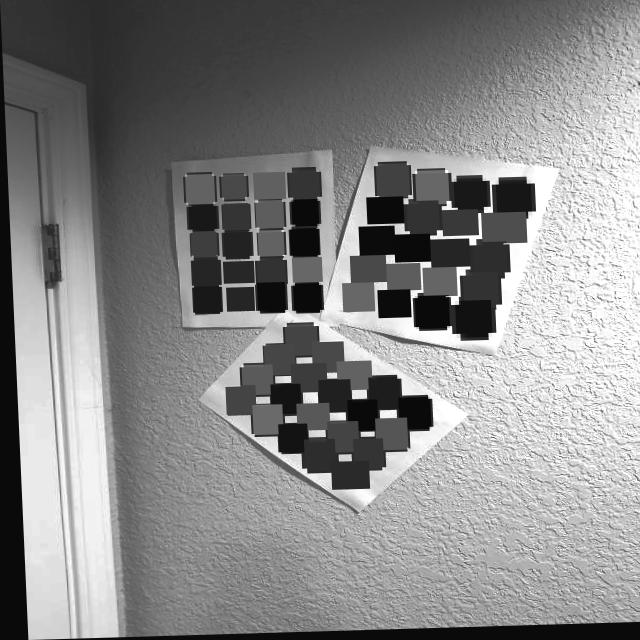qr_code: (479, 215, 525, 247), (452, 303, 489, 341), (494, 183, 530, 220), (460, 275, 496, 312), (413, 173, 448, 208), (470, 244, 505, 279), (412, 298, 447, 332), (428, 241, 468, 270), (374, 166, 408, 200), (404, 203, 438, 237), (326, 463, 365, 492), (452, 181, 486, 214), (315, 381, 348, 415), (371, 420, 405, 453), (356, 228, 393, 258), (287, 365, 324, 395), (308, 342, 341, 375), (394, 399, 427, 432), (333, 363, 369, 393), (392, 236, 429, 265), (364, 199, 402, 227), (282, 326, 315, 358), (365, 379, 397, 412), (347, 257, 384, 285), (323, 423, 355, 455), (300, 441, 332, 473), (420, 270, 455, 299), (440, 212, 477, 239), (260, 346, 292, 377), (238, 366, 270, 397), (343, 402, 374, 433), (267, 386, 298, 417), (349, 441, 380, 472), (222, 386, 253, 417), (248, 406, 279, 437), (339, 285, 372, 314), (375, 292, 408, 321), (292, 405, 326, 433), (384, 266, 419, 293), (183, 175, 213, 206), (274, 425, 304, 455), (287, 172, 318, 201), (251, 174, 284, 201), (287, 230, 317, 259), (254, 284, 283, 314), (254, 202, 283, 231), (290, 285, 319, 314), (186, 205, 215, 233), (221, 231, 249, 260), (189, 260, 218, 288), (254, 260, 283, 288), (190, 287, 219, 315), (220, 204, 248, 232), (289, 259, 320, 284), (289, 201, 317, 228), (220, 262, 252, 285), (256, 232, 283, 259), (223, 288, 252, 313), (189, 233, 216, 259), (219, 175, 245, 201)
